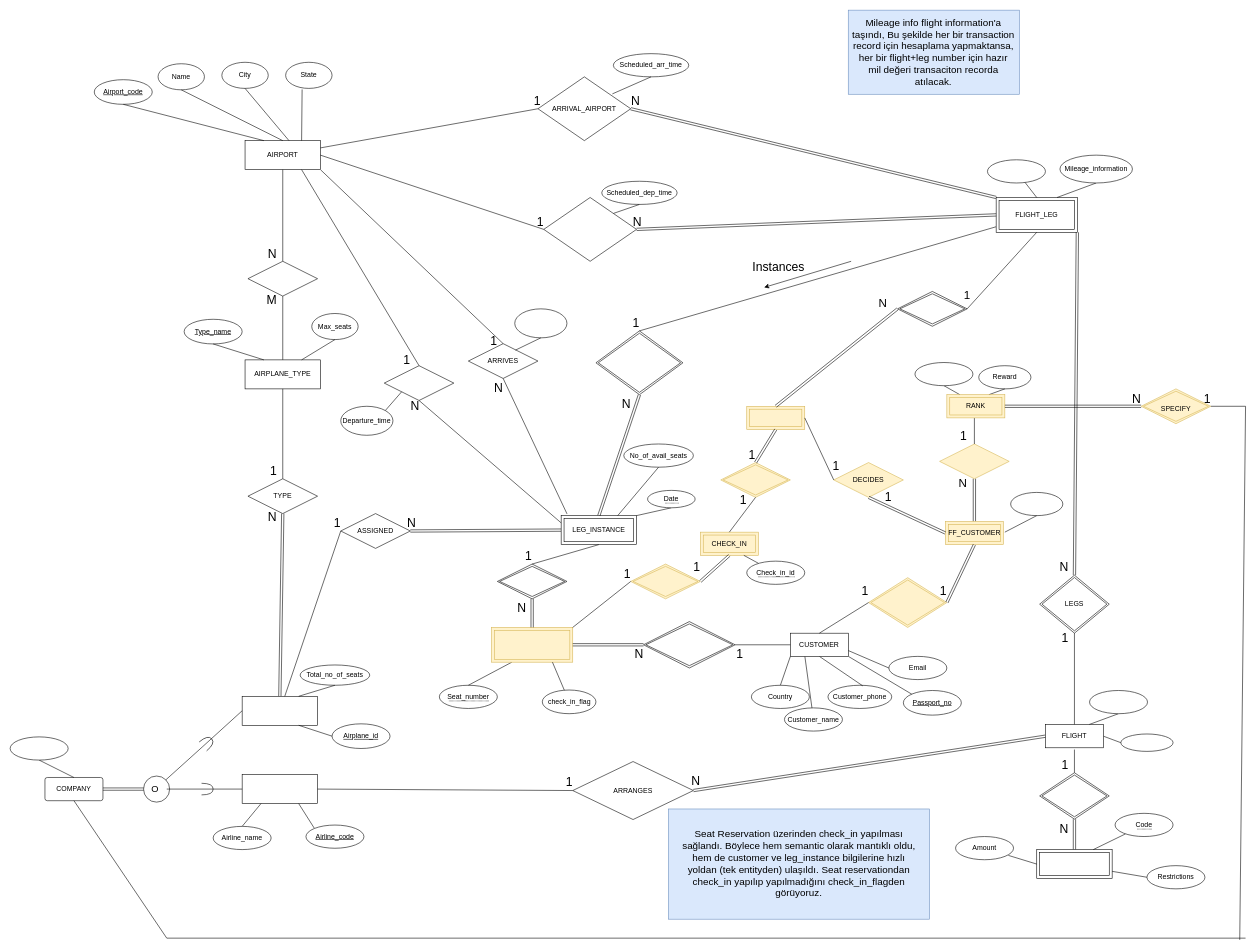
This 1256x951 diagram has some shape labels left out. The box of each missing label's shape, as (x1, y1, x2, y2) in pixels:
AIRLINE: (242, 774, 318, 804)
AIRPLANE: (242, 696, 318, 725)
Arrival_time: (514, 308, 567, 338)
CAN_BE_CLASSIFIED: (868, 577, 947, 627)
CAN_LAND: (247, 261, 318, 296)
CLASSIFIES: (939, 443, 1009, 479)
Company_name: (10, 736, 68, 760)
CREATES: (720, 462, 790, 497)
DEPARTS: (384, 365, 454, 400)
DEPARTURE_AIRPORT: (543, 197, 637, 261)
FARE: (1036, 849, 1112, 879)
FARES: (1039, 772, 1109, 819)
HAS: (497, 563, 567, 599)
INSTANCE_OF: (595, 330, 683, 395)
IS_CHECKED: (630, 563, 700, 599)
Leg_no: (987, 159, 1045, 183)
MAKE: (643, 621, 735, 668)
Number: (1089, 690, 1148, 714)
Rank_flag: (1010, 492, 1063, 516)
Rank_no: (914, 362, 973, 386)
SEAT RESERVATION: (491, 627, 573, 662)
T_RECORD: (746, 406, 805, 429)
TRANSACTION: (897, 291, 967, 326)
Weekdays: (1120, 733, 1173, 751)
